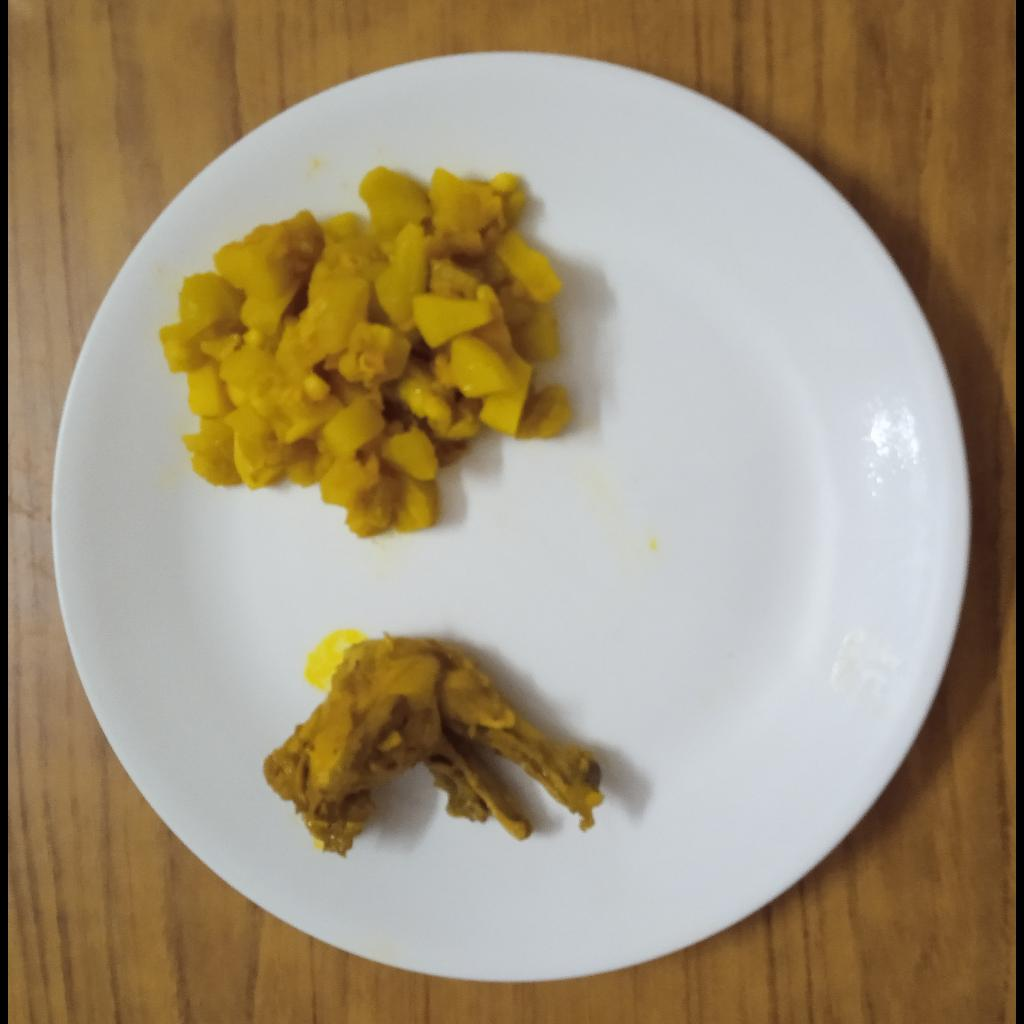chicken: (254, 631, 611, 860)
lau: (158, 163, 570, 532)
